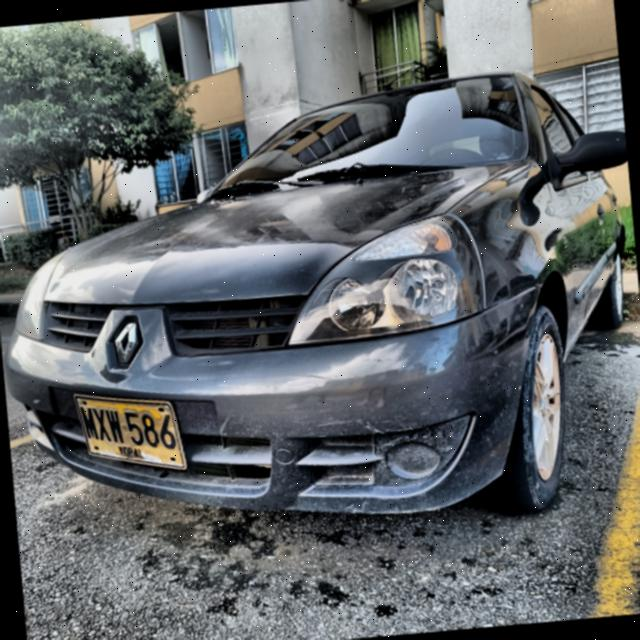5: (124, 410, 145, 445)
6: (156, 413, 178, 450)
8: (139, 412, 160, 448)
M: (78, 405, 99, 440)
W: (104, 408, 125, 443)
X: (92, 406, 112, 442)
